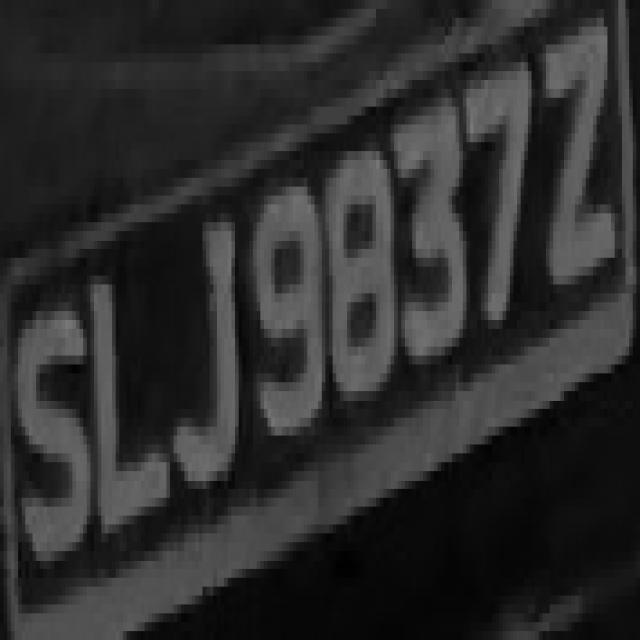3: (398, 80, 470, 409)
7: (463, 27, 528, 382)
8: (318, 125, 405, 426)
9: (238, 151, 322, 489)
J: (177, 196, 242, 534)
L: (94, 213, 174, 560)
S: (11, 258, 87, 604)
Z: (532, 36, 626, 302)
